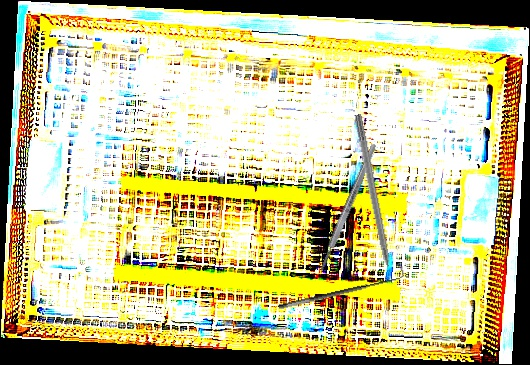Hook Surgical: (352, 113, 396, 289), (275, 265, 408, 312)
Scalpel Handle: (317, 142, 379, 272)
